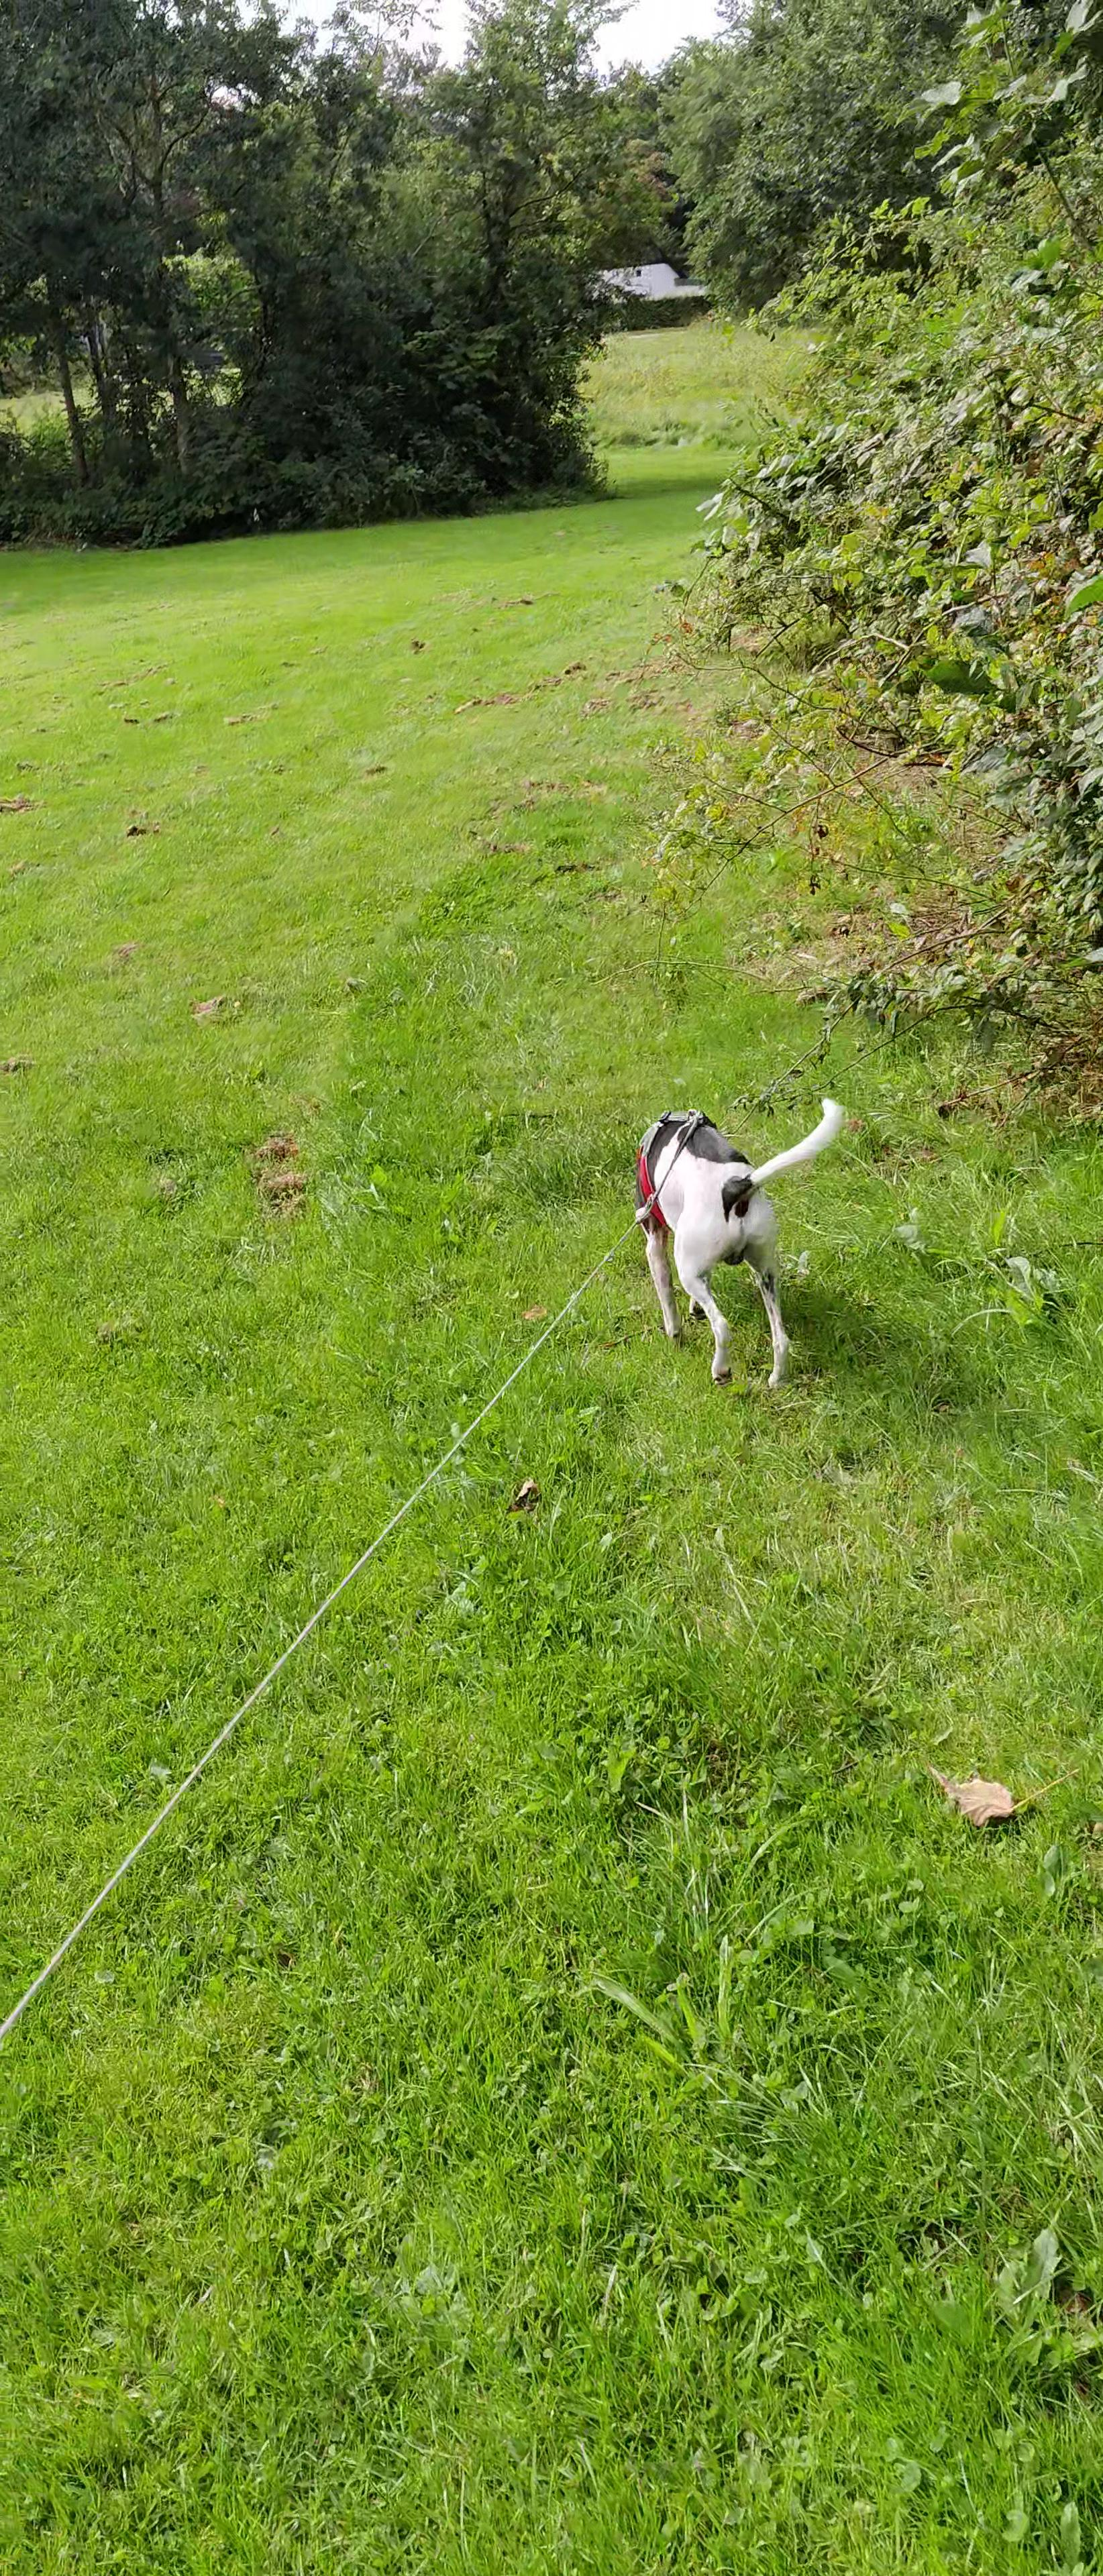Dog: (616, 1058, 851, 1395)
